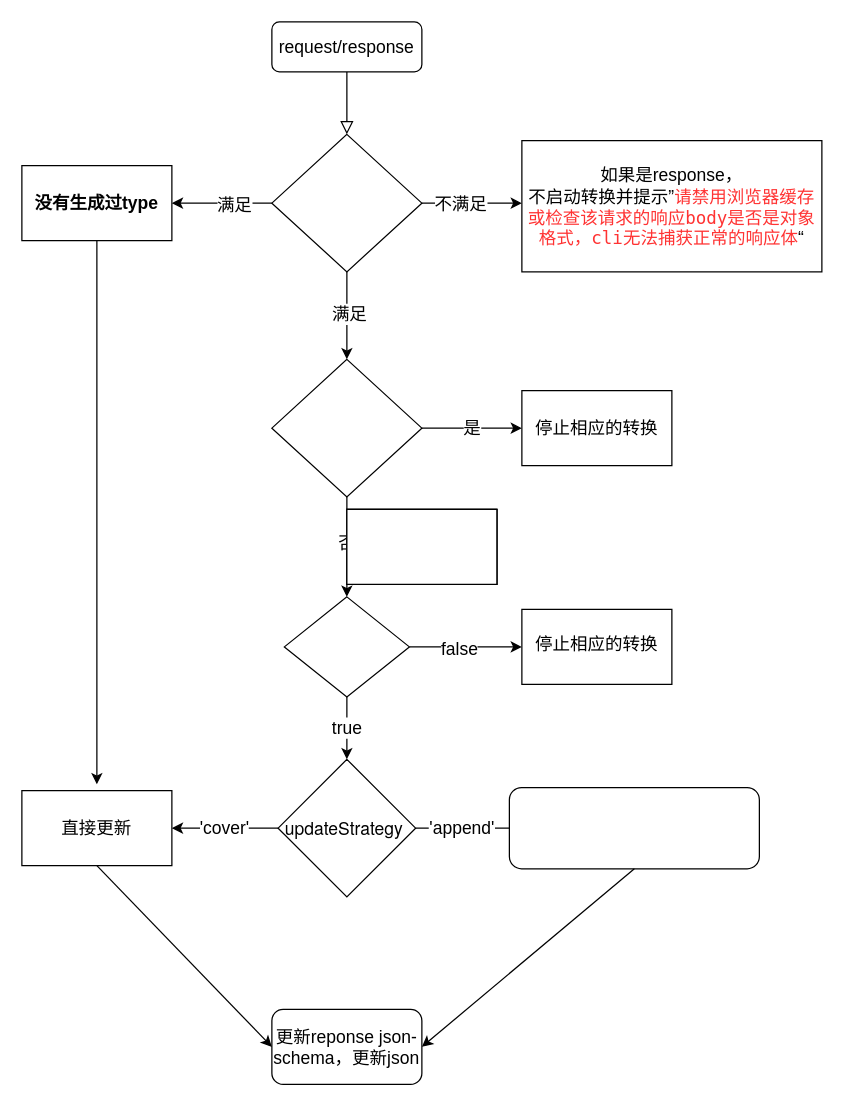
Image size: 844x1106. Some labels were removed from this diagram. The box of each missing label's shape, as (x1, y1, x2, y2) in pixels:
differ(): (283, 596, 409, 697)
已有的type是否含有‘Latest’: (271, 358, 422, 497)
数据 有效且不是空对象: (271, 133, 422, 272)
追加新的类型定义（命名末尾会加上L atest ）: (508, 786, 759, 869)
